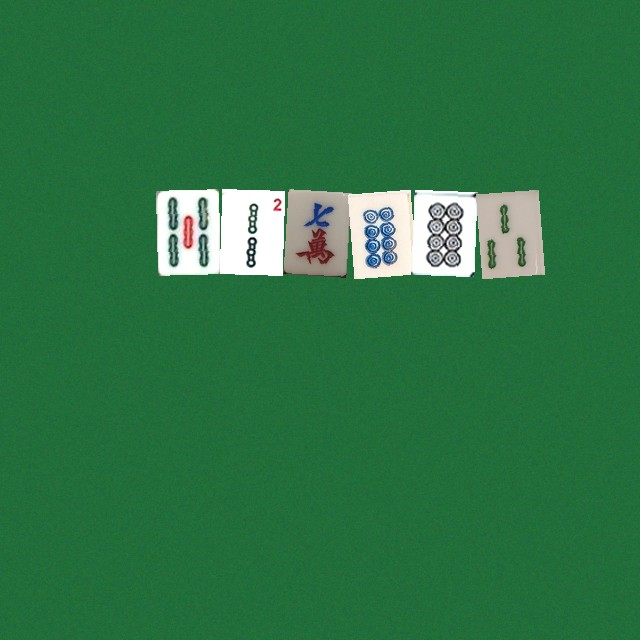tile: (155, 189, 218, 274), (219, 189, 282, 274), (283, 189, 346, 274), (347, 189, 410, 274), (411, 189, 474, 274), (475, 189, 538, 274)
